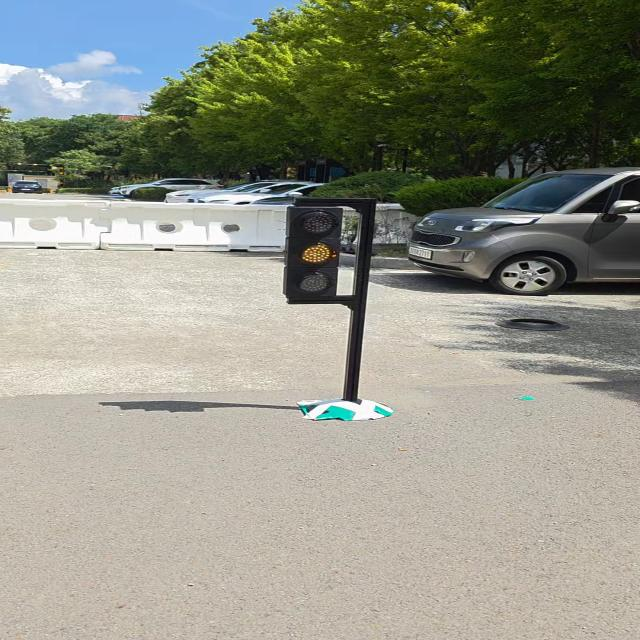yellow: (285, 205, 343, 300)
